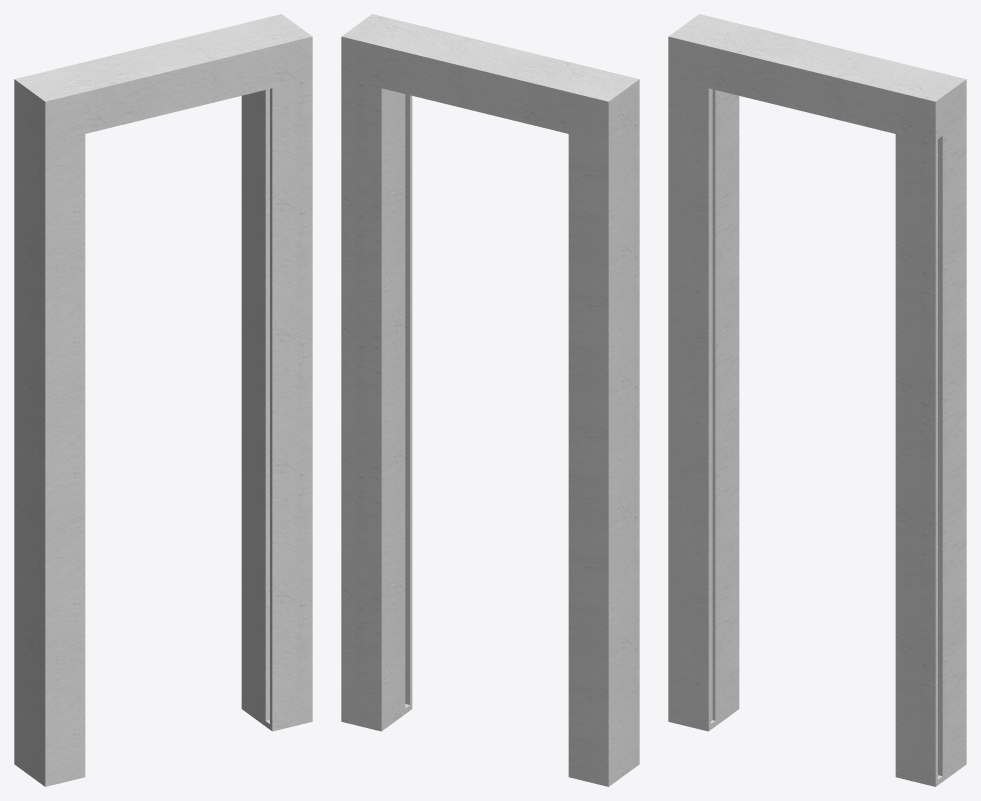
The model's file is 門2 推拉門 門框.gltf.
3 views of the same model, side by side, from view 1: azimuth 30°, elevation 25°; view 2: azimuth 150°, elevation 25°; view 3: azimuth 330°, elevation 25° (orthographic).
Parts seen in each view (by area): view 1: root; view 2: root; view 3: root.
Part boxes in pixels (left/top/right/bottom): root: left=14, top=14, right=312, bottom=786; root: left=341, top=14, right=639, bottom=786; root: left=668, top=14, right=966, bottom=786.
Bounding box in the file's own units: 1 × 2.45 × 0.2.
2 materials, 1 textured.
